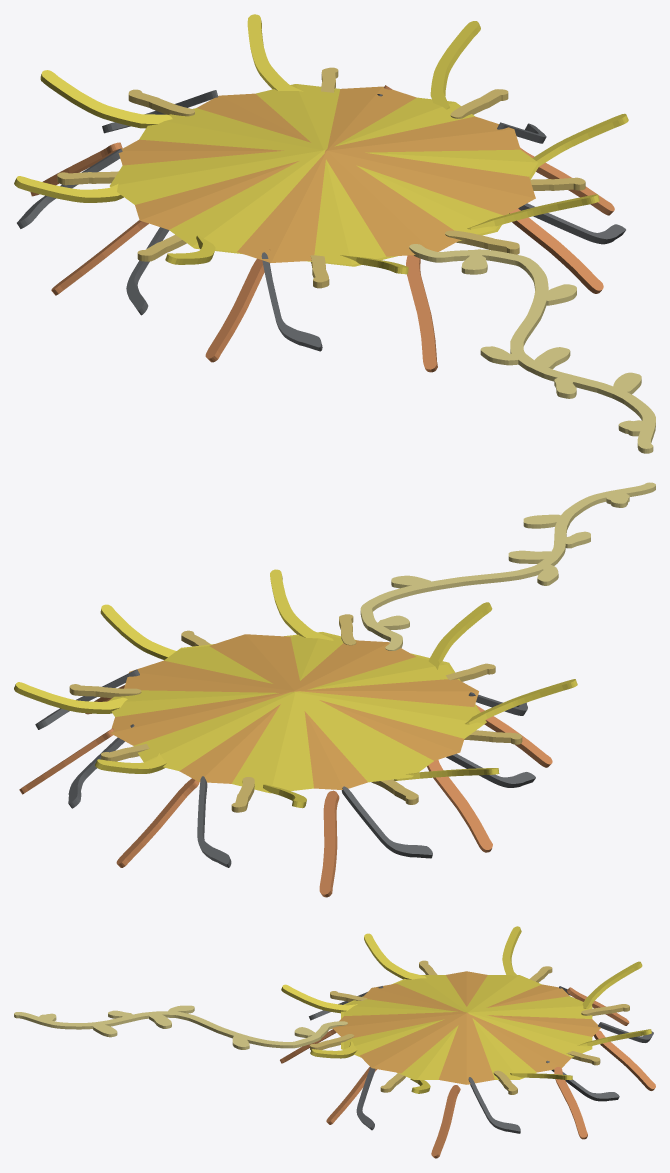
The model's file is barrilete.glb.
3 renders of one model, top to bottom at view 1: azimuth 30°, elevation 25°; view 2: azimuth 150°, elevation 25°; view 3: azimuth 270°, elevation 25°, orthographic. The views are drawn at different scales.
Parts seen in each view (by area): view 1: Mesh_Mesh_head_geo.001_lambert2SG.001; view 2: Mesh_Mesh_head_geo.001_lambert2SG.001; view 3: Mesh_Mesh_head_geo.001_lambert2SG.001.
Part boxes in pixels (box(x1,y1,x2,y2)): Mesh_Mesh_head_geo.001_lambert2SG.001: box(14, 14, 655, 453); Mesh_Mesh_head_geo.001_lambert2SG.001: box(14, 482, 655, 897); Mesh_Mesh_head_geo.001_lambert2SG.001: box(14, 926, 655, 1158).
Size of the model in its own units: 0.926 by 0.1995 by 1.55.
